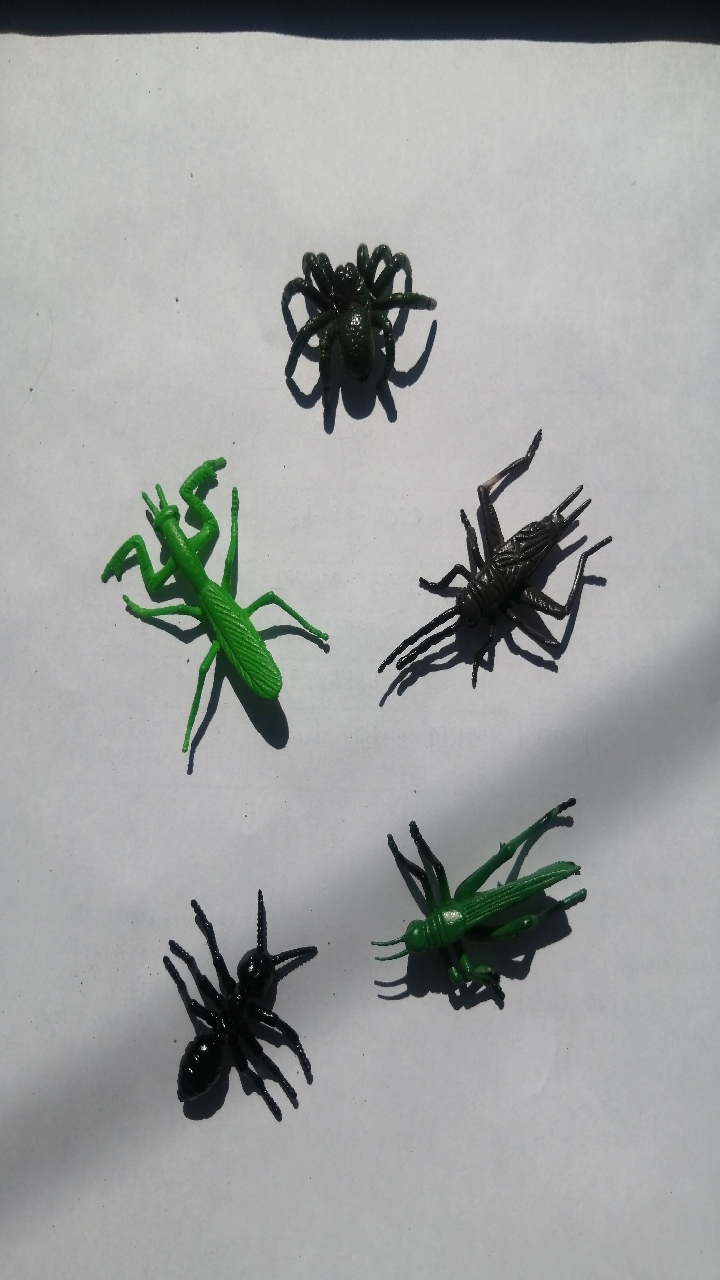intruso: (54, 420, 352, 792), (369, 411, 646, 737), (103, 849, 343, 1174), (358, 763, 615, 1046), (237, 205, 448, 452)
